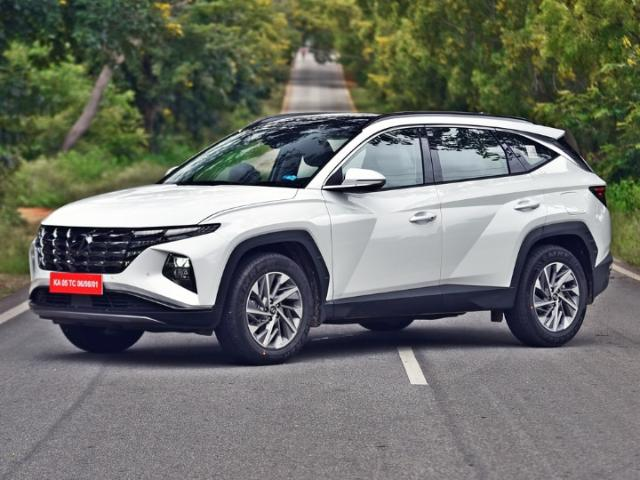hyundai: (28, 111, 612, 365)
